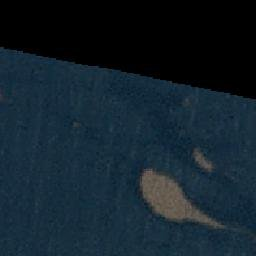debris: (138, 169, 187, 212), (172, 203, 206, 222), (195, 151, 212, 173), (207, 217, 222, 228)
